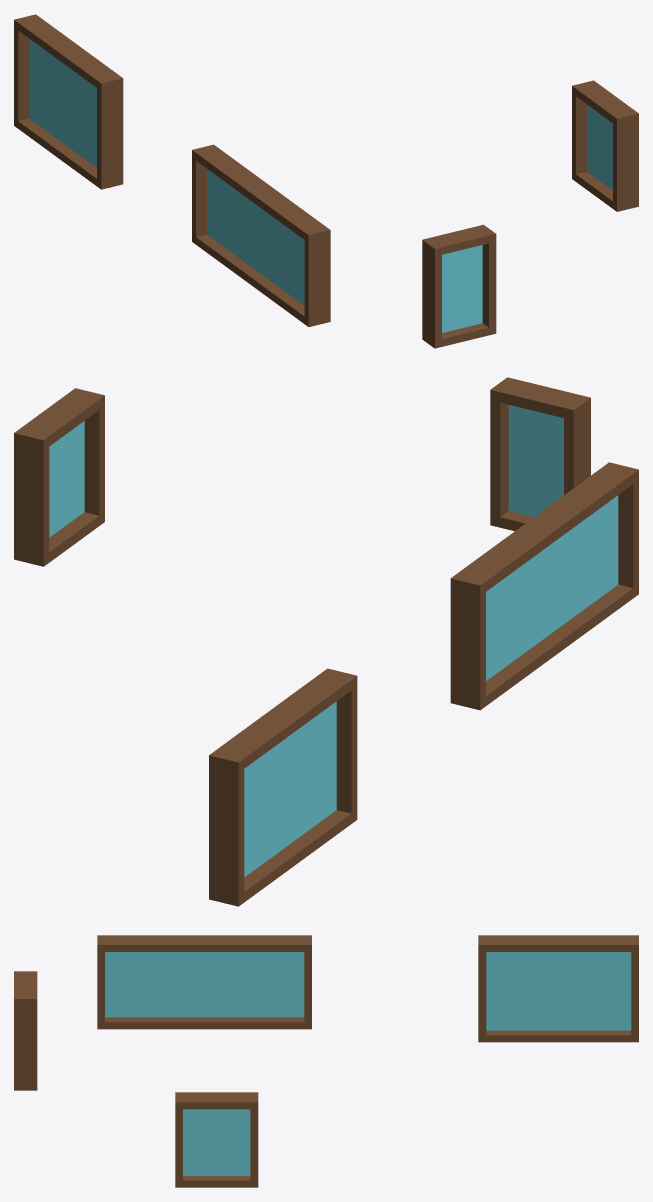
The model's file is Windows.fbx.
3 views of the same model, one above another, from view 1: azimuth 30°, elevation 25°; view 2: azimuth 150°, elevation 25°; view 3: azimuth 270°, elevation 25° (orthographic). The views are drawn at different scales.
Parts seen in each view (by area): view 1: Window2, Window1, Window3, Window4; view 2: Window2, Window1, Window4, Window3; view 3: Window2, Window1, Window4, Window3.
Part boxes in pixels (x1,y1,x2,y2): Window2: (192, 144, 330, 326); Window1: (14, 14, 123, 189); Window3: (422, 224, 496, 348); Window4: (572, 80, 638, 211); Window2: (450, 462, 638, 710); Window1: (209, 668, 357, 906); Window4: (14, 388, 104, 566); Window3: (490, 377, 590, 531); Window2: (97, 935, 311, 1029); Window1: (478, 935, 638, 1042); Window4: (175, 1092, 258, 1187); Window3: (14, 971, 37, 1090).
Size of the model in its own units: 806 by 510 by 139.
